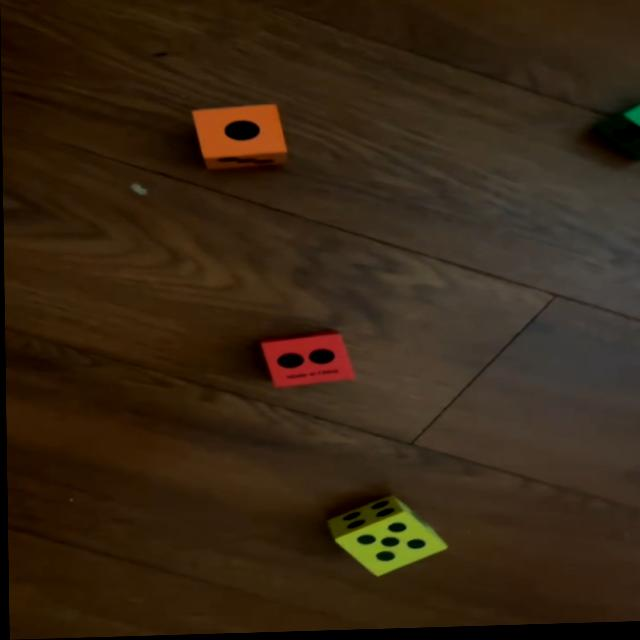cube: (259, 333, 356, 391), (601, 102, 640, 163)
